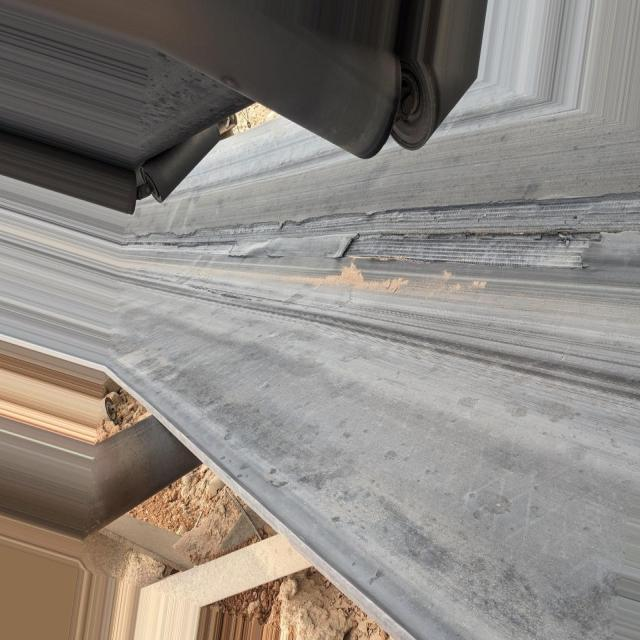Roller: (270, 34, 405, 158), (392, 49, 480, 156), (145, 125, 227, 203)
Tear: (133, 196, 640, 277)
